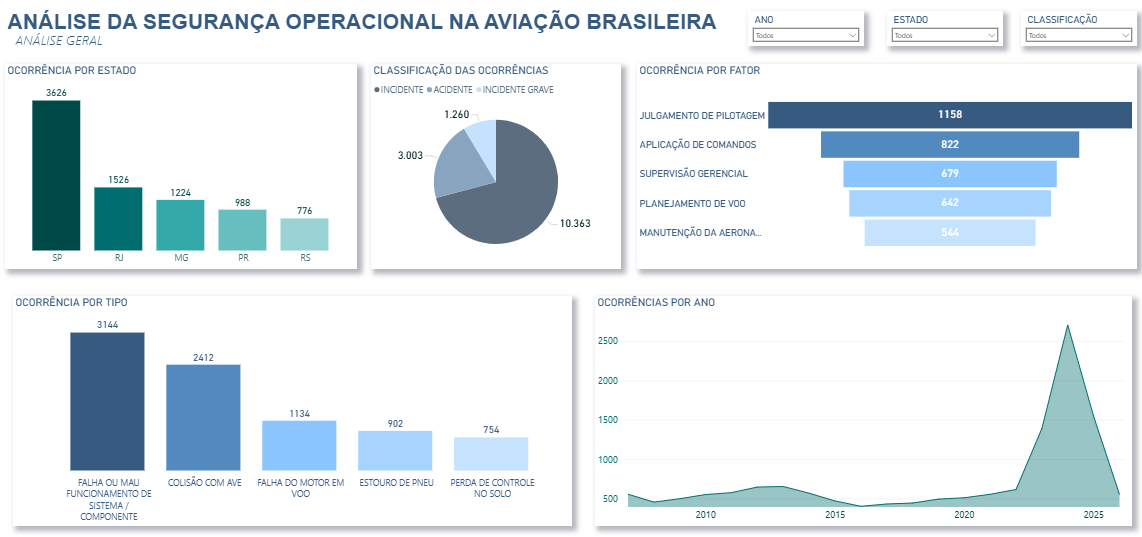

The dashboard page shown, as its layout file describes it:
{"tool":"powerbi","page":{"name":"Ocorrências na Aviação Civil Brasileira","canvas":[2300,1100],"ordinal":0},"visuals":[{"type":"lineChart","title":"OCORRÊNCIAS POR ANO","fields":{"Category":["ocorrencia.ocorrencia_dia.Variation.Hierarquia de datas.Ano"],"Y":["ocorrencia.Total Ocorrências"]},"box":[1195,605,1075,460],"z":0},{"type":"columnChart","title":"OCORRÊNCIA POR ESTADO","fields":{"Y":["CountNonNull(ocorrencia.ocorrencia_uf)"],"Category":["ocorrencia.ocorrencia_uf"]},"box":[15,142.5,705,410],"z":1000},{"type":"funnel","title":"OCORRÊNCIA POR FATOR","fields":{"Category":["fator_contribuinte.fator_nome"],"Y":["CountNonNull(fator_contribuinte.fator_nome)"]},"box":[1280,142.5,1000,410],"z":2000},{"type":"columnChart","title":"OCORRÊNCIA POR TIPO","fields":{"Category":["ocorrencia_tipo.ocorrencia_tipo"],"Y":["CountNonNull(ocorrencia_tipo.ocorrencia_tipo)"]},"box":[32.5,605,1117.5,460],"z":3000},{"type":"textbox","box":[15,27.5,1462.5,70],"z":4000},{"type":"pieChart","title":"CLASSIFICAÇÃO DAS OCORRÊNCIAS","fields":{"Category":["ocorrencia.ocorrencia_classificacao"],"Y":["CountNonNull(ocorrencia.ocorrencia_classificacao)"]},"box":[747.5,142.5,500,410],"z":5000},{"type":"slicer","fields":{"Values":["ocorrencia.ocorrencia_dia.Variation.Hierarquia de datas.Ano"]},"box":[1501.7,35,231.7,70],"z":6000},{"type":"slicer","fields":{"Values":["ocorrencia.ocorrencia_uf"]},"box":[1780,35,231.7,70],"z":7000},{"type":"slicer","fields":{"Values":["ocorrencia.ocorrencia_classificacao"]},"box":[2048.3,35,231.7,70],"z":8000},{"type":"textbox","box":[32.5,70,300,60],"z":8001}]}

Visuals, with their boxes in screenshot pixels (x1, y1, x2, y2), scaled from the page's 2300x1100 canvas onto the 1142x537 screenshot:
"OCORRÊNCIAS POR ANO" lineChart: box(593, 295, 1127, 520)
"OCORRÊNCIA POR ESTADO" columnChart: box(7, 70, 357, 270)
"OCORRÊNCIA POR FATOR" funnel: box(636, 70, 1132, 270)
"OCORRÊNCIA POR TIPO" columnChart: box(16, 295, 571, 520)
textbox: box(7, 13, 734, 48)
"CLASSIFICAÇÃO DAS OCORRÊNCIAS" pieChart: box(371, 70, 619, 270)
slicer - ocorrencia.ocorrencia_dia.Variation.Hierarquia de datas.Ano: box(746, 17, 861, 51)
slicer - ocorrencia.ocorrencia_uf: box(884, 17, 999, 51)
slicer - ocorrencia.ocorrencia_classificacao: box(1017, 17, 1132, 51)
textbox: box(16, 34, 165, 63)
